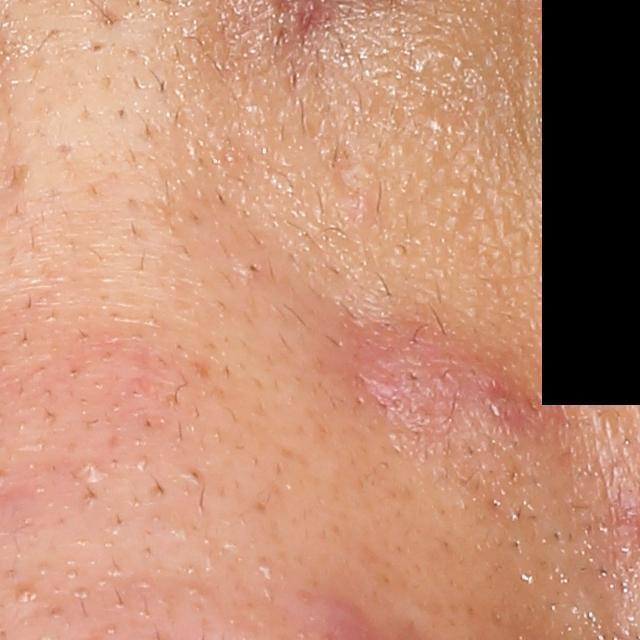atrophic_scar: (317, 141, 364, 204)
comedo: (238, 257, 269, 285)
